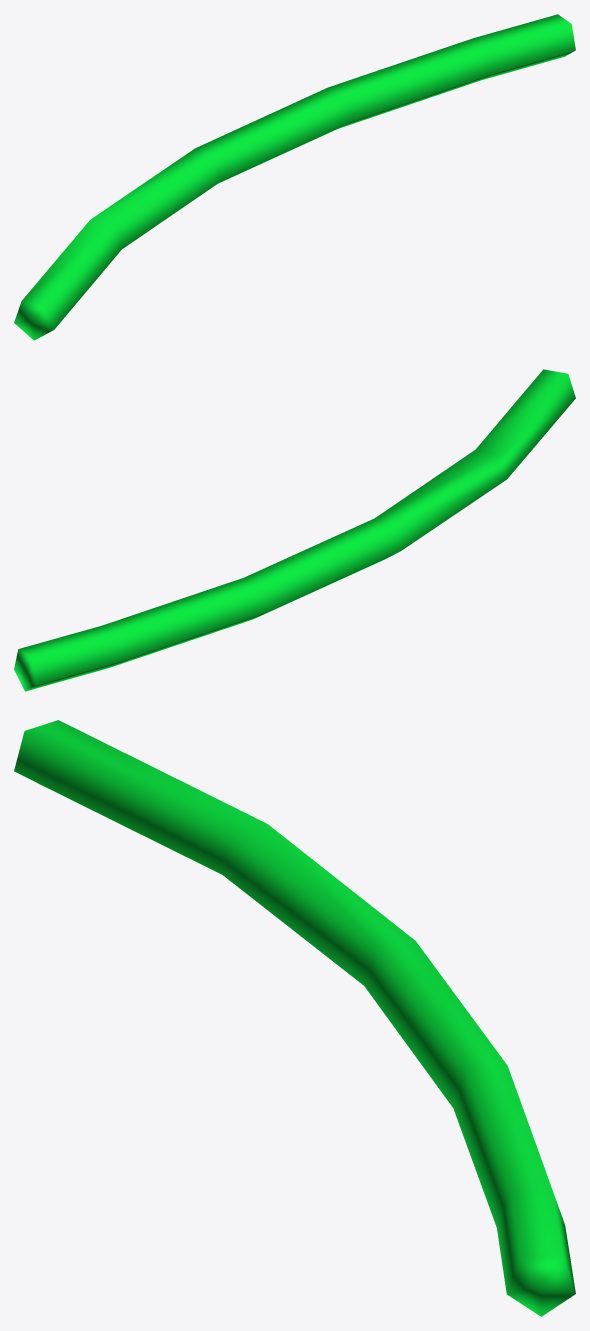
File: Pipe_Turn_45_B_Ext.fbx
3 renders of one model, top to bottom at view 1: azimuth 30°, elevation 25°; view 2: azimuth 210°, elevation 25°; view 3: azimuth 270°, elevation 25°, orthographic. The views are drawn at different scales.
Visible parts, largest first — view 1: Pipe_Turn_45_B_Ext; view 2: Pipe_Turn_45_B_Ext; view 3: Pipe_Turn_45_B_Ext.
Boxes of the visible parts, x1=… form: Pipe_Turn_45_B_Ext: x1=14, y1=14, x2=575, y2=340; Pipe_Turn_45_B_Ext: x1=14, y1=369, x2=575, y2=691; Pipe_Turn_45_B_Ext: x1=14, y1=720, x2=575, y2=1316.
Bounding box in the file's own units: 3.95 × 0.2069 × 1.73.
